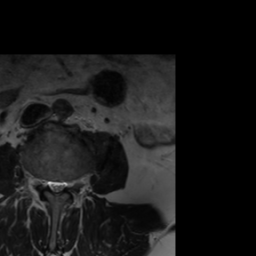CCS_severe_stenosis: (53, 175, 59, 202)
LFS_normal: (67, 175, 75, 194)
LLS_stenosis: (60, 175, 67, 194)
RFS_normal: (39, 174, 47, 194)
RLS_stenosis: (47, 175, 54, 194)
